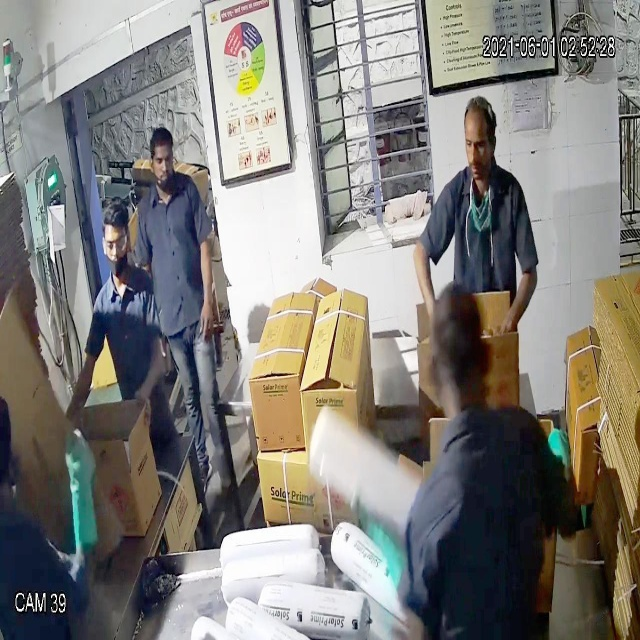Gafas: (100, 224, 135, 262)
Sin_gafas: (457, 128, 497, 163), (146, 149, 180, 175)
